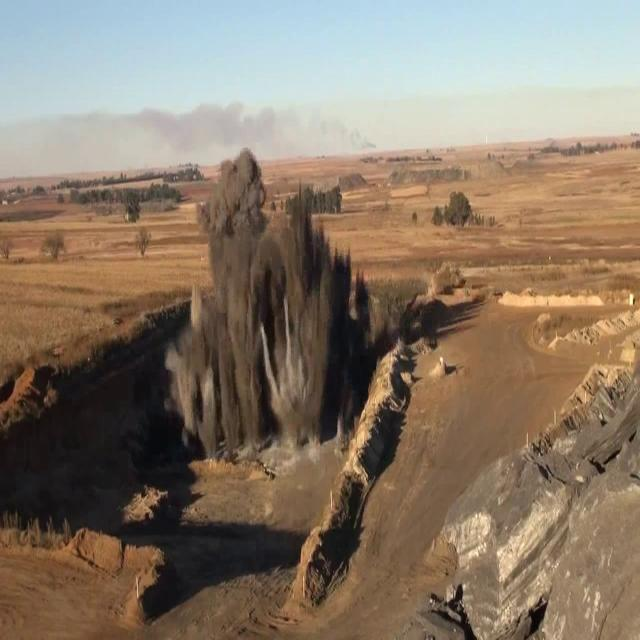explosion: (116, 116, 450, 487)
